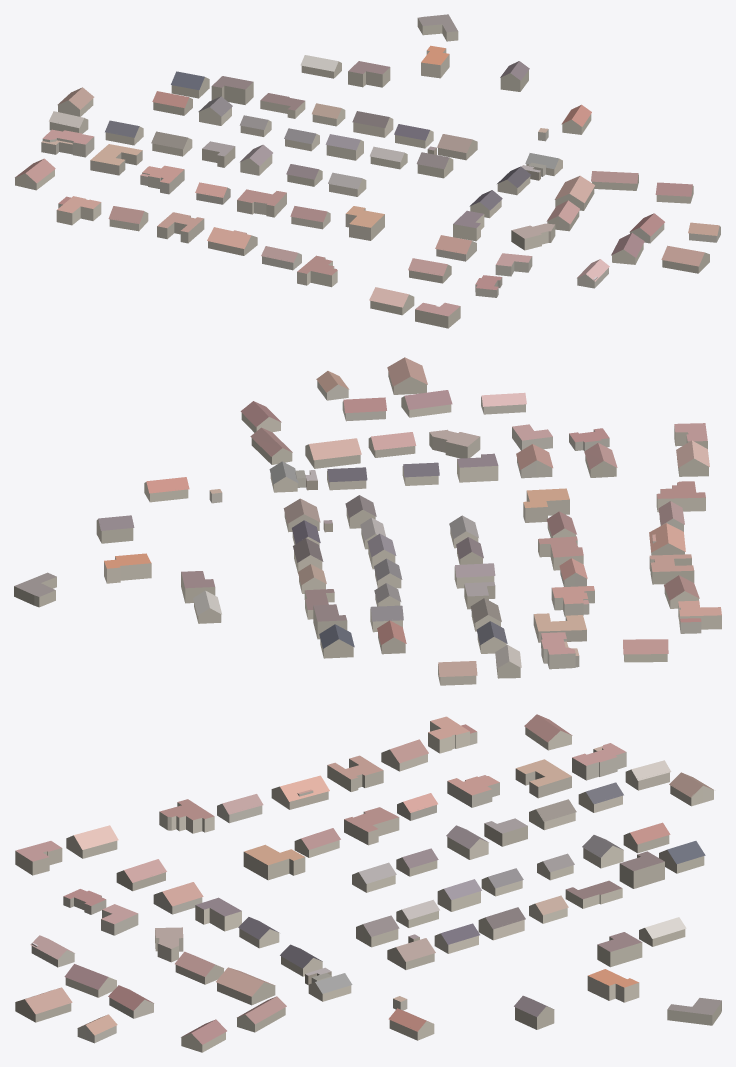
3 views of the same model, one above another, from view 1: azimuth 30°, elevation 25°; view 2: azimuth 150°, elevation 25°; view 3: azimuth 270°, elevation 25° (orthographic). The views are drawn at different scales.
Visible parts, largest first — view 1: tuile; view 2: tuile; view 3: tuile.
Boxes of the visible parts, x1=… form: tuile: x1=15, y1=14, x2=720, y2=328; tuile: x1=14, y1=357, x2=721, y2=685; tuile: x1=15, y1=714, x2=721, y2=1052.
Size of the model in its own units: 254 by 19.89 by 256.
